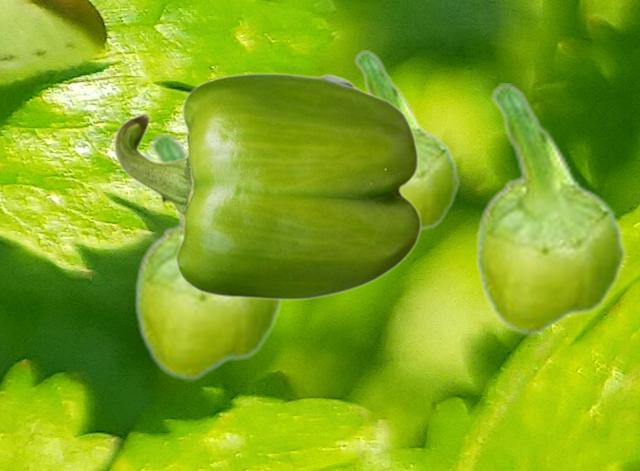bell_pepper: (113, 72, 421, 300), (474, 83, 626, 335), (133, 133, 282, 380), (349, 50, 459, 234)
